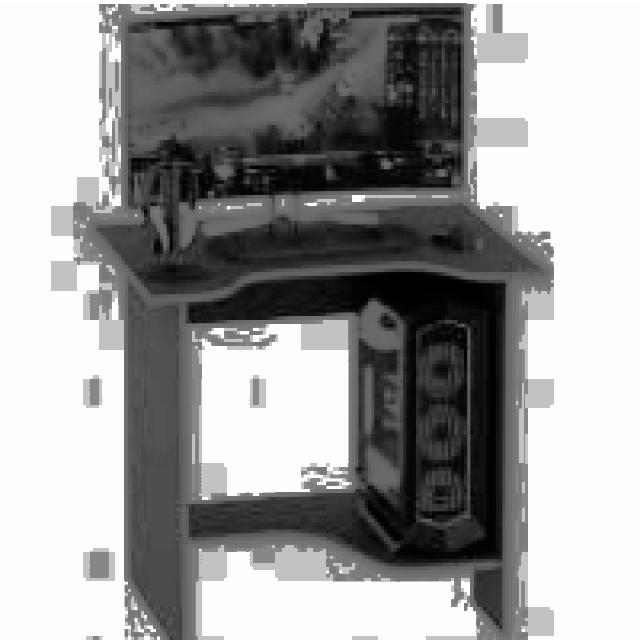table: (90, 195, 547, 636)
